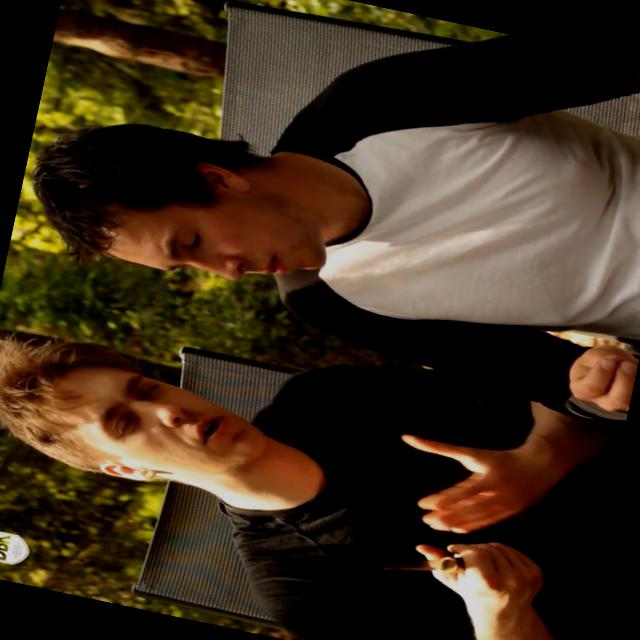knife: (370, 518, 517, 610)
